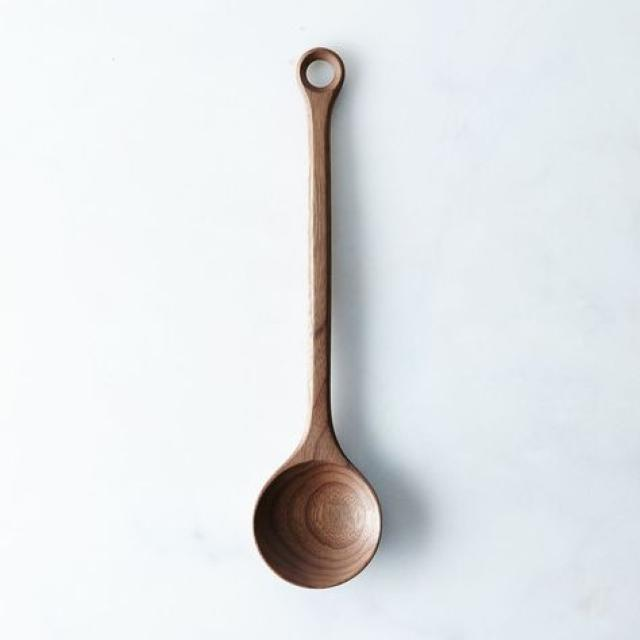spoon: (252, 38, 392, 602)
